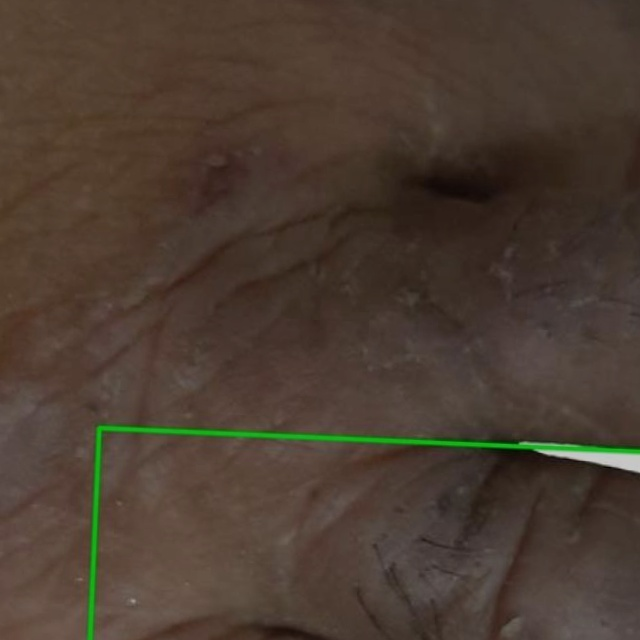Eczema: (90, 428, 639, 639)
